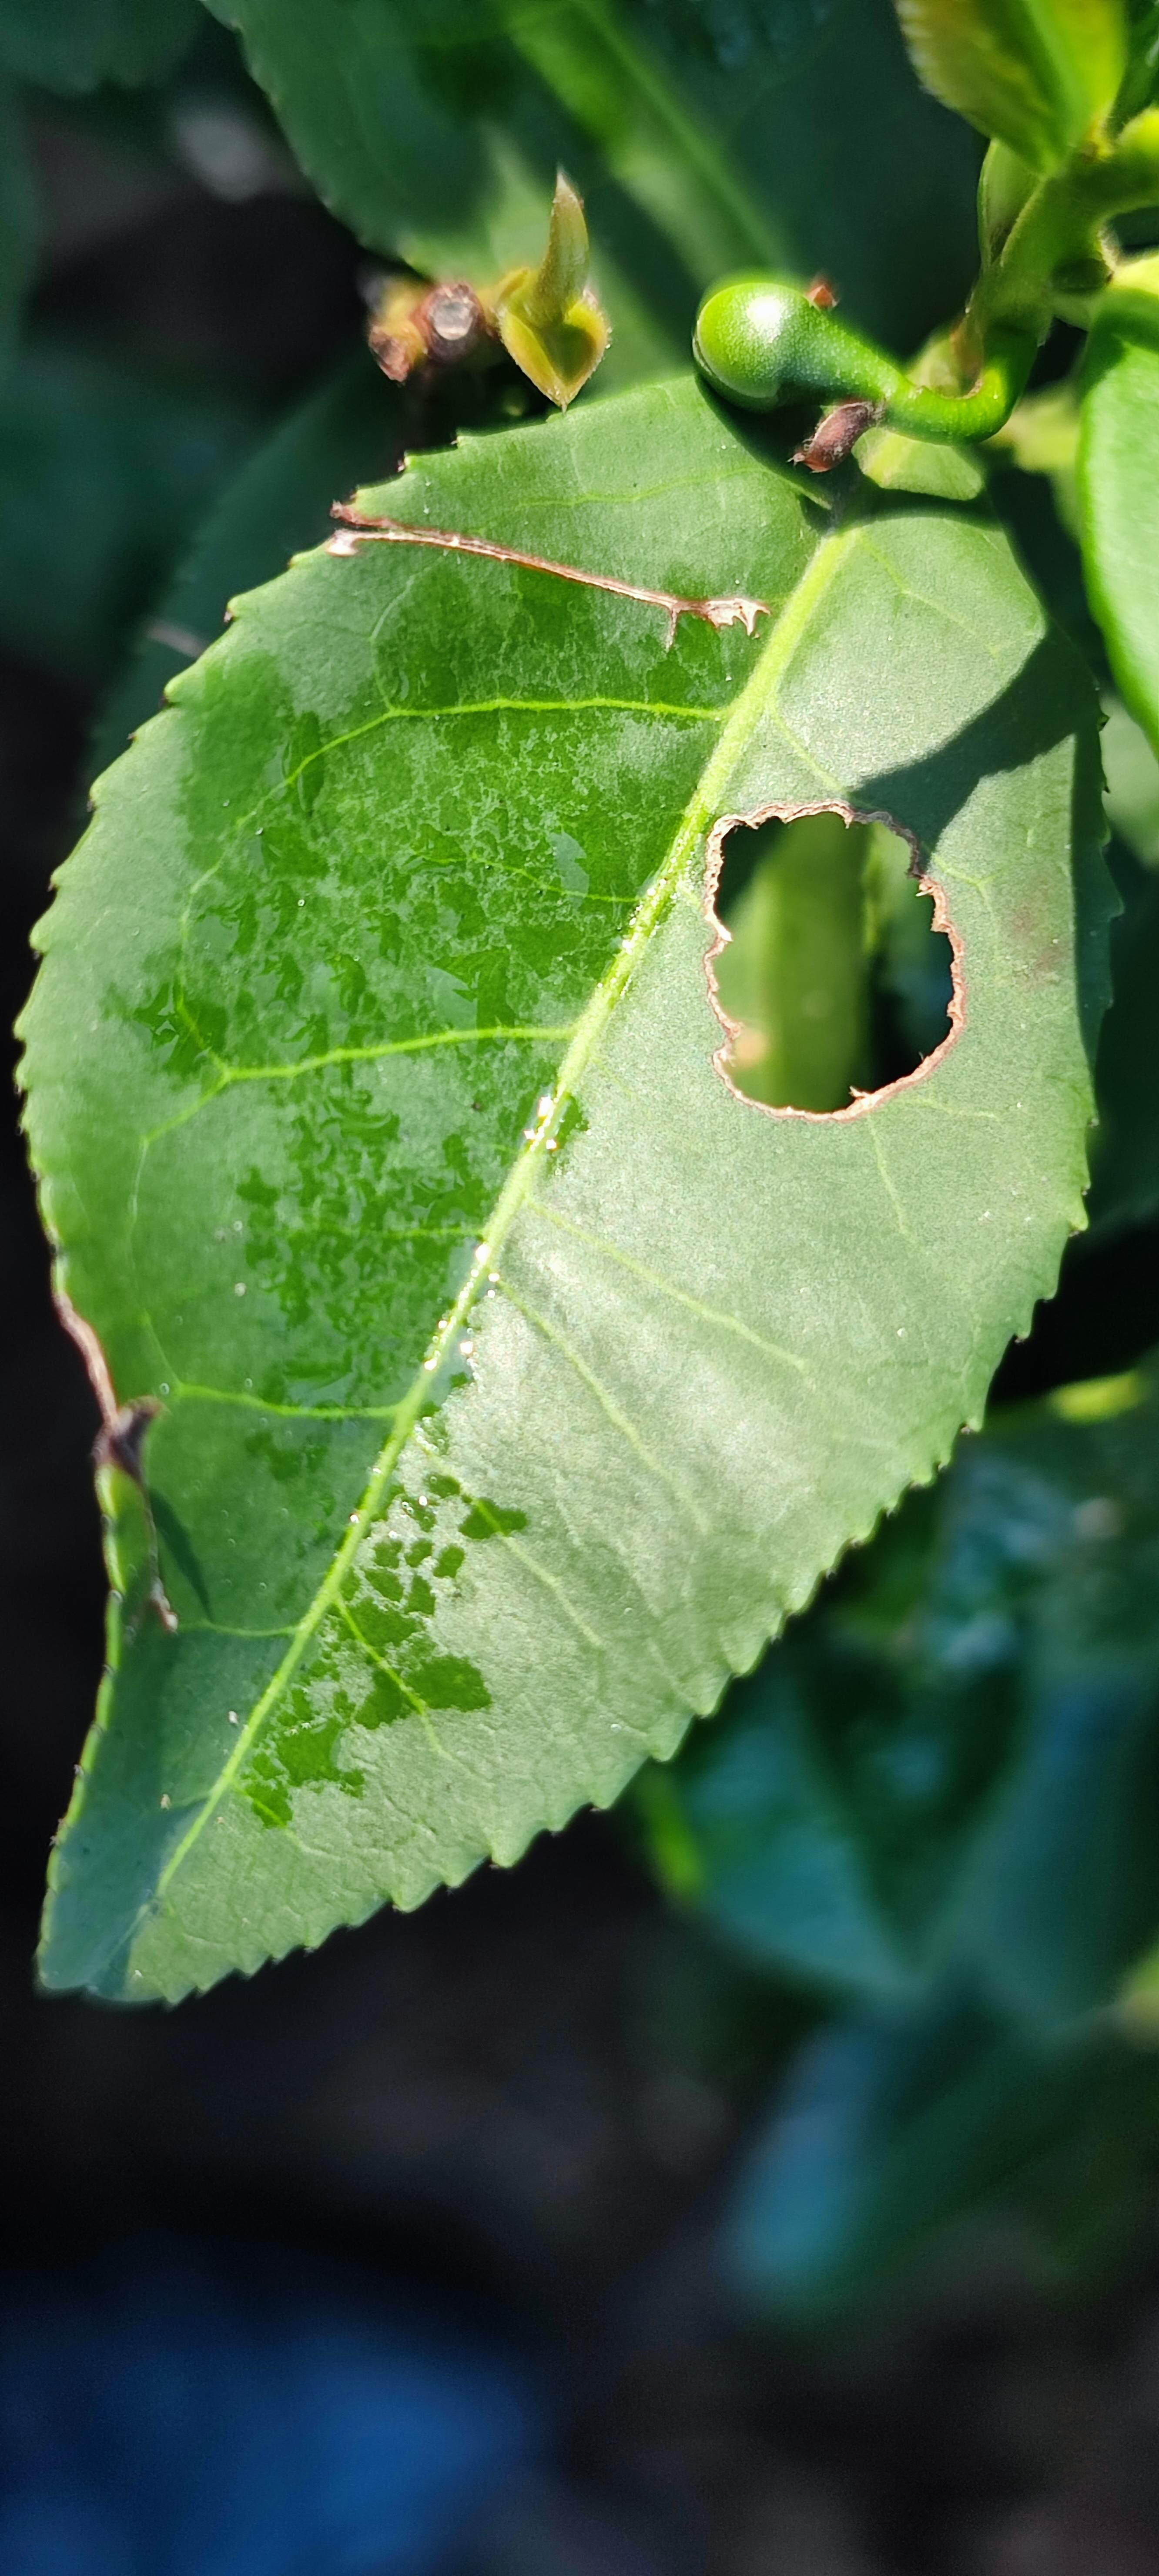chihuo_high: (13, 376, 1131, 2014)
